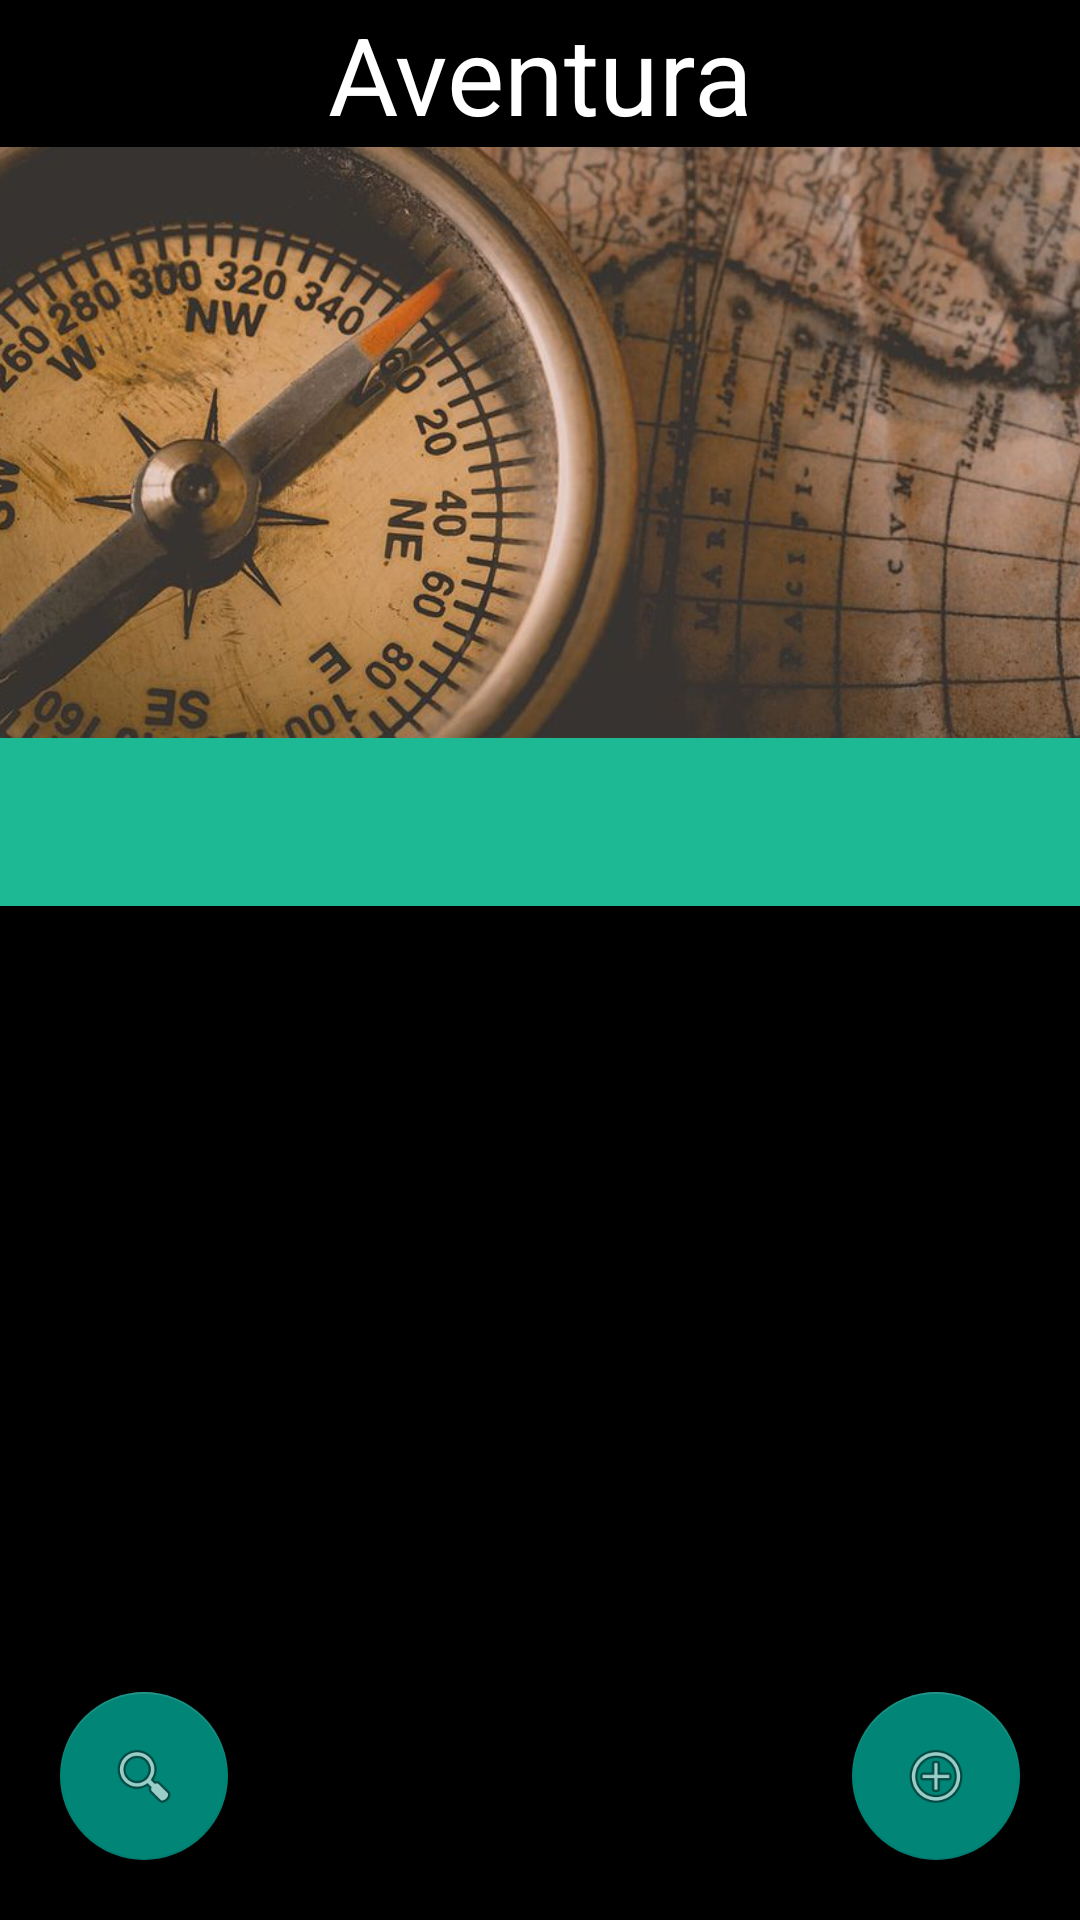

Icon click points for this 1080×1920 phone screenshot, format point (x, y):
add: point (936, 1776)
search: point (144, 1776)
